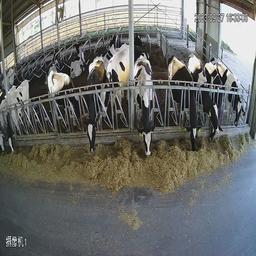cow: (167, 52, 201, 158), (134, 45, 162, 161), (212, 55, 245, 136), (43, 62, 81, 130), (83, 53, 105, 170), (4, 69, 31, 161), (193, 52, 216, 128), (109, 35, 130, 112), (72, 40, 88, 79), (43, 55, 62, 78)
